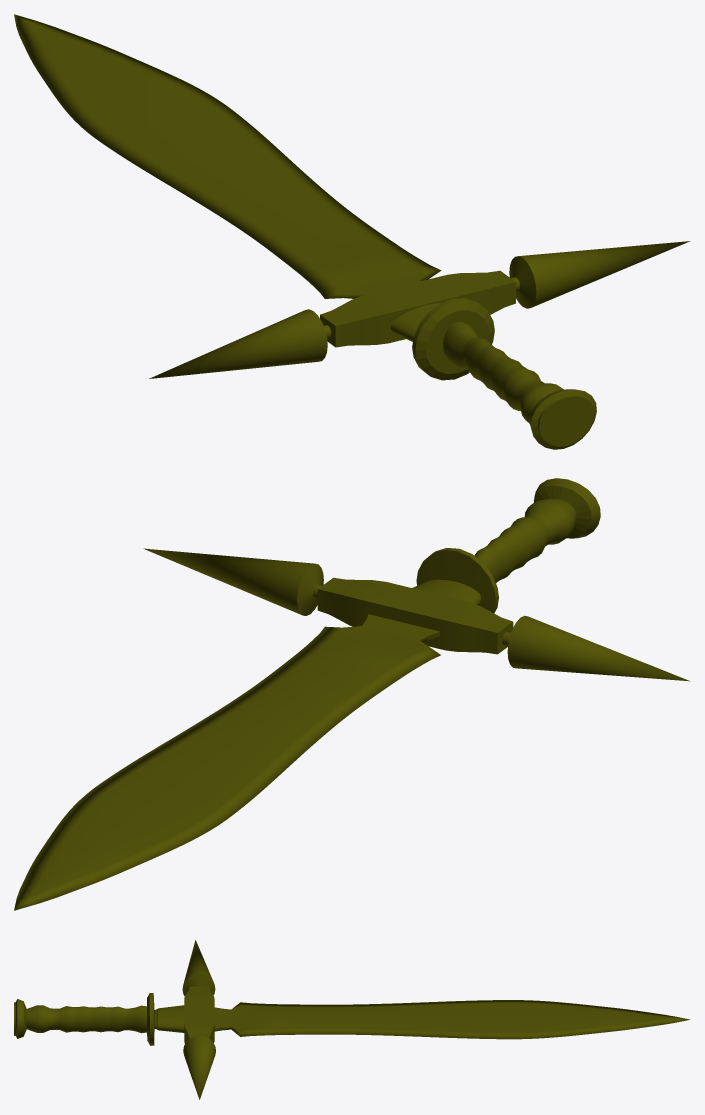
The model's file is Sword export.obj.
3 views of the same model, one above another, from view 1: azimuth 30°, elevation 25°; view 2: azimuth 150°, elevation 25°; view 3: azimuth 270°, elevation 25° (orthographic). The views are drawn at different scales.
Visible parts, largest first — view 1: polySurface8 polySurface5 polySurface2 pCylinder8, pCylinder8 polySurface1, polySurface5 polySurface2 pCylinder8 polySurface6, polySurface2 pCylinder8 polySurface3, polySurface2 pCylinder8 polySurface4, polySurface5 polySurface2 pCylinder8 polySurface7; view 2: polySurface8 polySurface5 polySurface2 pCylinder8, polySurface5 polySurface2 pCylinder8 polySurface6, pCylinder8 polySurface1, polySurface2 pCylinder8 polySurface3, polySurface2 pCylinder8 polySurface4, polySurface5 polySurface2 pCylinder8 polySurface7; view 3: polySurface8 polySurface5 polySurface2 pCylinder8, pCylinder8 polySurface1, polySurface5 polySurface2 pCylinder8 polySurface6, polySurface2 pCylinder8 polySurface4, polySurface5 polySurface2 pCylinder8 polySurface7, polySurface2 pCylinder8 polySurface3.
Part boxes in pixels (left/top/right/bottom): polySurface8 polySurface5 polySurface2 pCylinder8: left=14, top=14, right=441, bottom=298; pCylinder8 polySurface1: left=443, top=321, right=596, bottom=449; polySurface5 polySurface2 pCylinder8 polySurface6: left=320, top=270, right=515, bottom=347; polySurface2 pCylinder8 polySurface3: left=149, top=309, right=331, bottom=378; polySurface2 pCylinder8 polySurface4: left=509, top=241, right=690, bottom=308; polySurface5 polySurface2 pCylinder8 polySurface7: left=390, top=298, right=494, bottom=380; polySurface8 polySurface5 polySurface2 pCylinder8: left=14, top=614, right=440, bottom=910; polySurface5 polySurface2 pCylinder8 polySurface6: left=317, top=577, right=513, bottom=654; pCylinder8 polySurface1: left=474, top=478, right=600, bottom=582; polySurface2 pCylinder8 polySurface3: left=502, top=615, right=689, bottom=681; polySurface2 pCylinder8 polySurface4: left=143, top=548, right=323, bottom=615; polySurface5 polySurface2 pCylinder8 polySurface7: left=412, top=548, right=498, bottom=613; polySurface8 polySurface5 polySurface2 pCylinder8: left=214, top=1000, right=690, bottom=1039; pCylinder8 polySurface1: left=14, top=999, right=146, bottom=1038; polySurface5 polySurface2 pCylinder8 polySurface6: left=184, top=986, right=214, bottom=1043; polySurface2 pCylinder8 polySurface4: left=183, top=1035, right=215, bottom=1099; polySurface5 polySurface2 pCylinder8 polySurface7: left=147, top=993, right=184, bottom=1045; polySurface2 pCylinder8 polySurface3: left=182, top=940, right=215, bottom=995.
Bounding box in the file's own units: 19.02 × 2.62 × 33.49.
